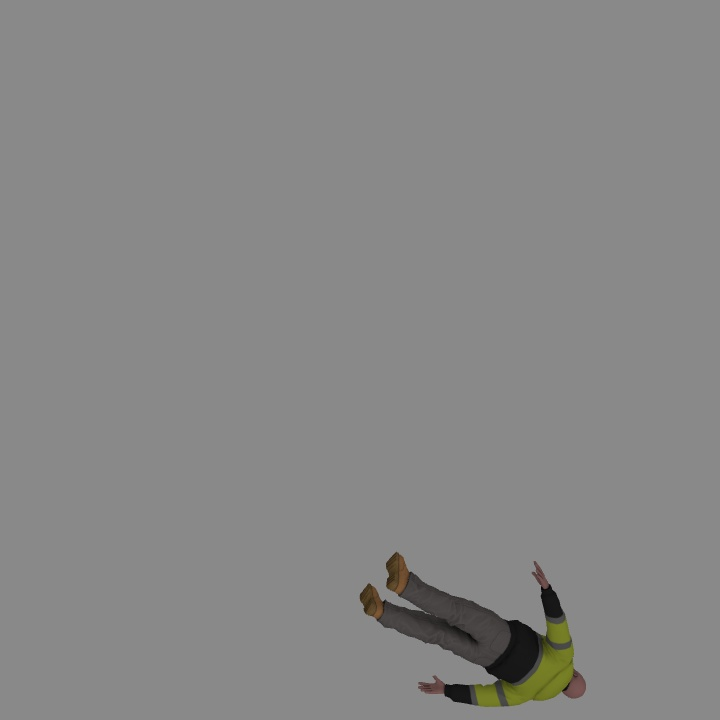victim: (361, 556, 586, 708)
